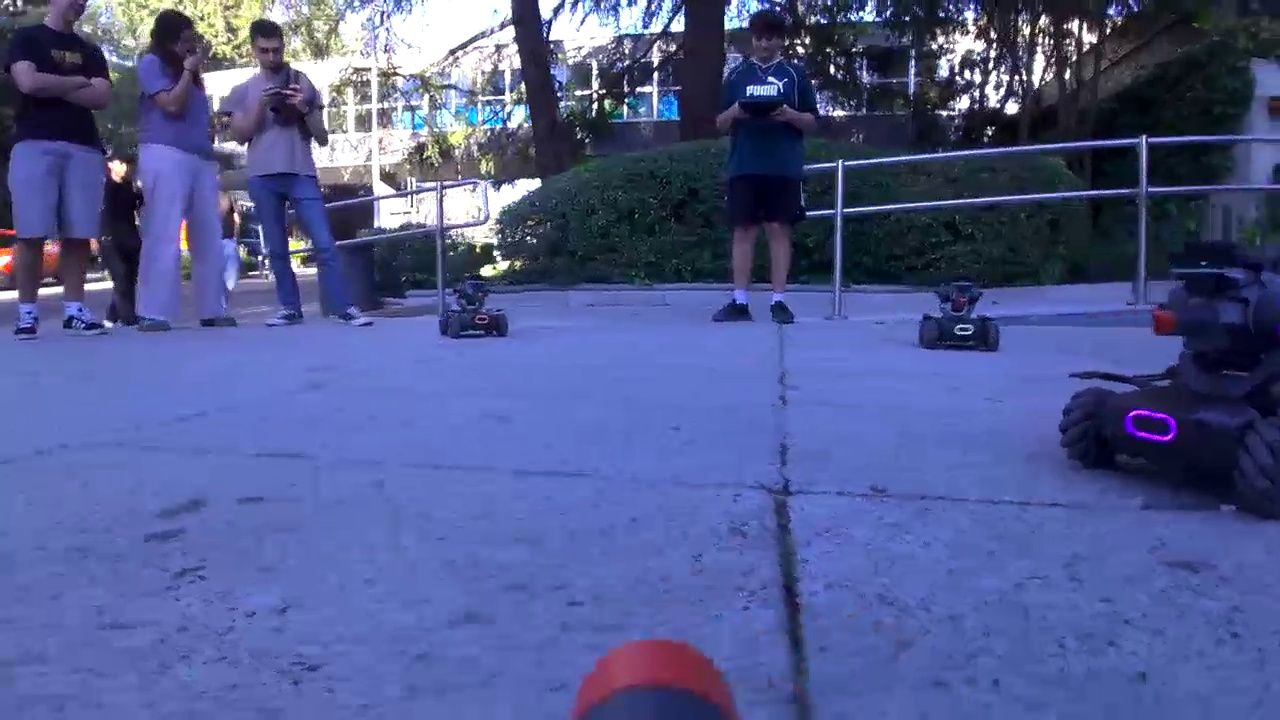robot: (1064, 265, 1280, 511), (910, 260, 1014, 358), (435, 269, 510, 337)
